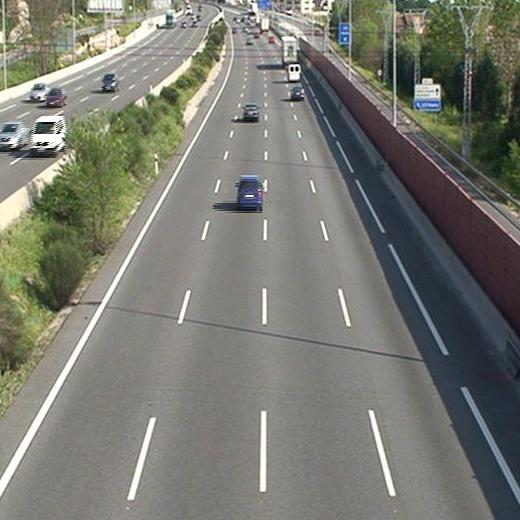car: (237, 175, 263, 207), (244, 105, 258, 119), (292, 87, 304, 99)
truck: (281, 37, 297, 65)
van: (287, 64, 300, 82)
